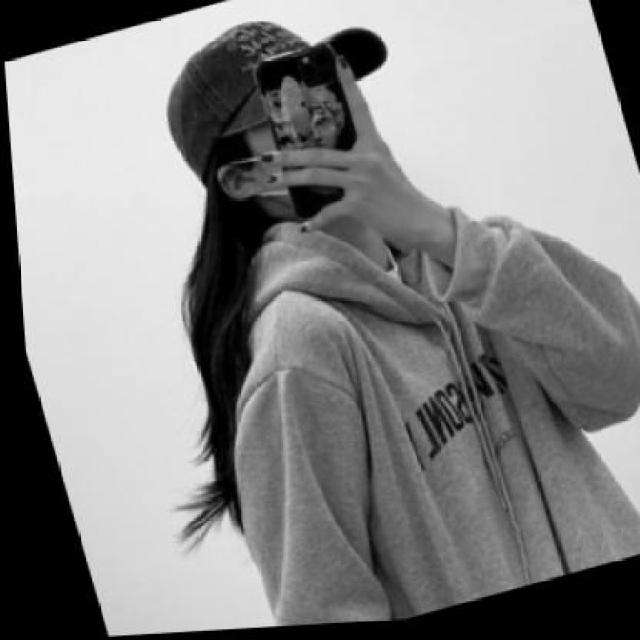hat: (132, 0, 417, 203)
